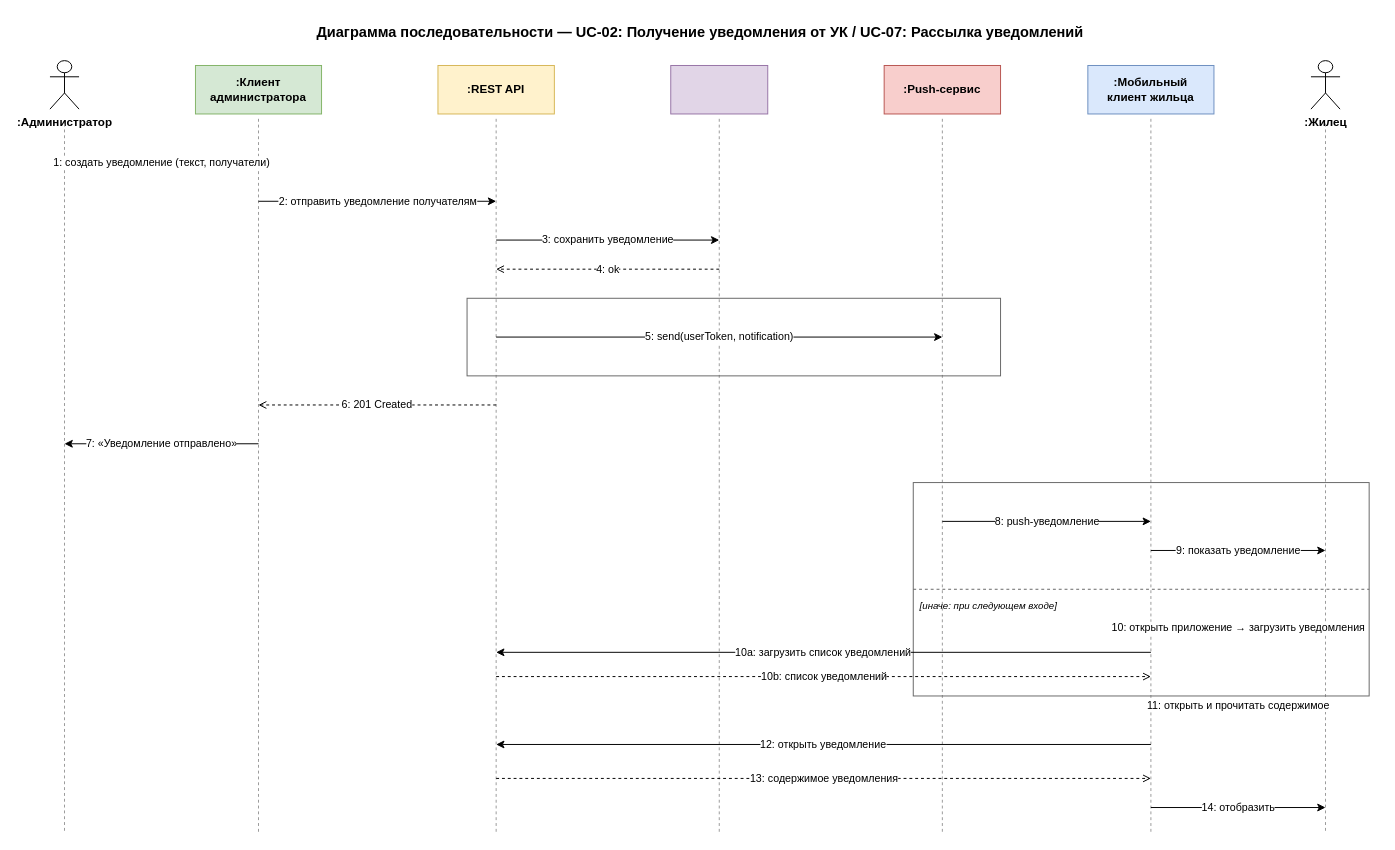
The diagram is 1395 pixels wide and 850 high, and some of its shapes have lost their labels. The box of each missing label's shape, as (x1, y1, x2, y2) in pixels:
:БД: (670, 65, 768, 114)
alt [устройство доступно]: (912, 482, 1369, 696)
loop [для каждого получателя]: (466, 297, 1001, 376)
